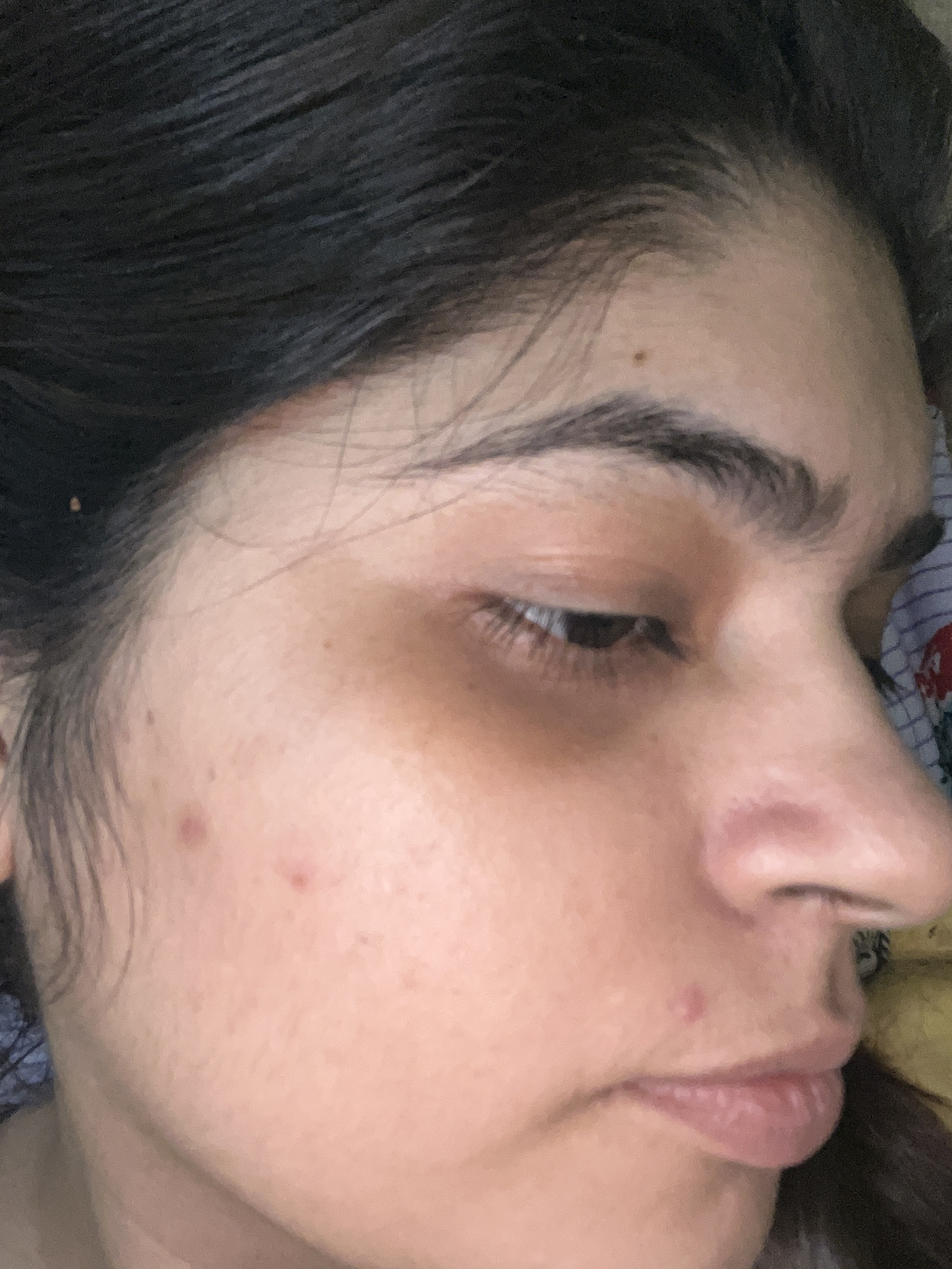papule: (659, 983, 725, 1038)
